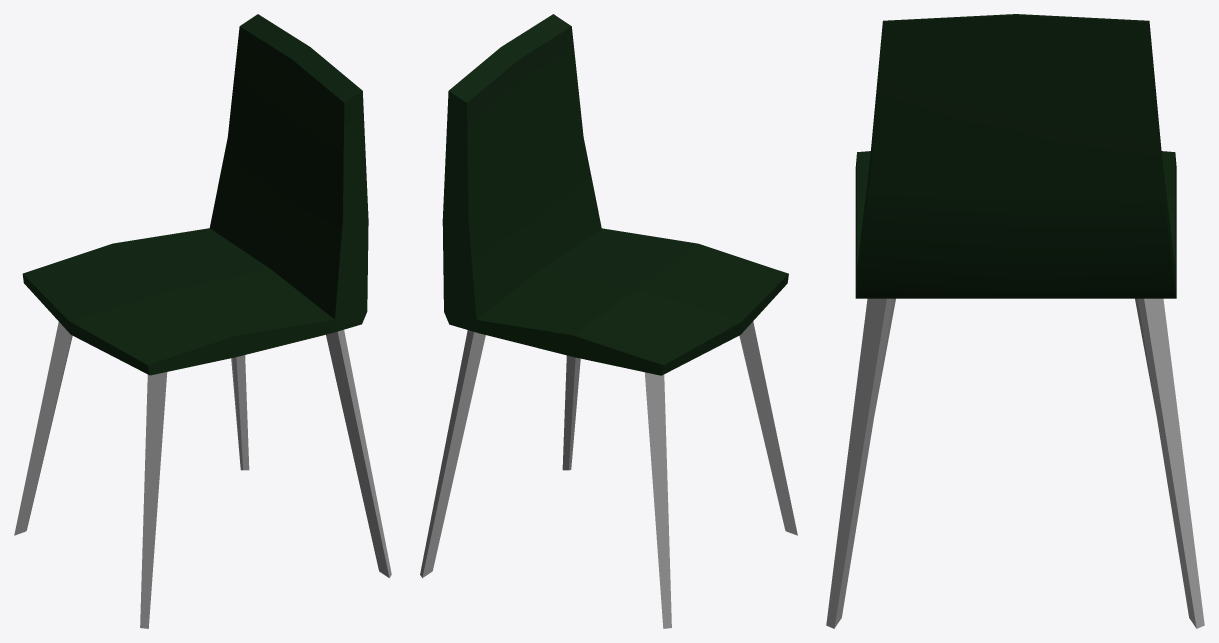
File: chairGreen.fbx
The picture shows the model from 3 angles, left to right: view 1: azimuth 30°, elevation 25°; view 2: azimuth 150°, elevation 25°; view 3: azimuth 270°, elevation 25°; orthographic projection. The views are drawn at different scales.
Visible parts, largest first — view 1: ChairGreen, ChairBase2; view 2: ChairGreen, ChairBase2; view 3: ChairGreen, ChairBase2.
Part boxes in pixels (left/top/right/bottom): ChairGreen: left=22, top=14, right=368, bottom=375; ChairBase2: left=14, top=322, right=391, bottom=628; ChairGreen: left=442, top=14, right=788, bottom=375; ChairBase2: left=420, top=321, right=797, bottom=628; ChairGreen: left=855, top=14, right=1176, bottom=298; ChairBase2: left=826, top=298, right=1204, bottom=628.
Size of the model in its own units: 9.92 by 18.02 by 10.18.
